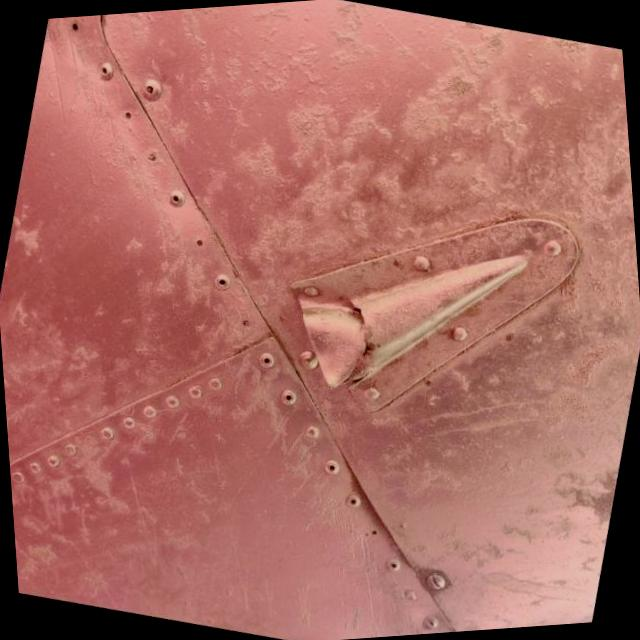Missing Fastener: (358, 518, 392, 547), (138, 145, 165, 172), (188, 232, 214, 256), (233, 314, 259, 334), (115, 106, 138, 128), (63, 15, 87, 36)
